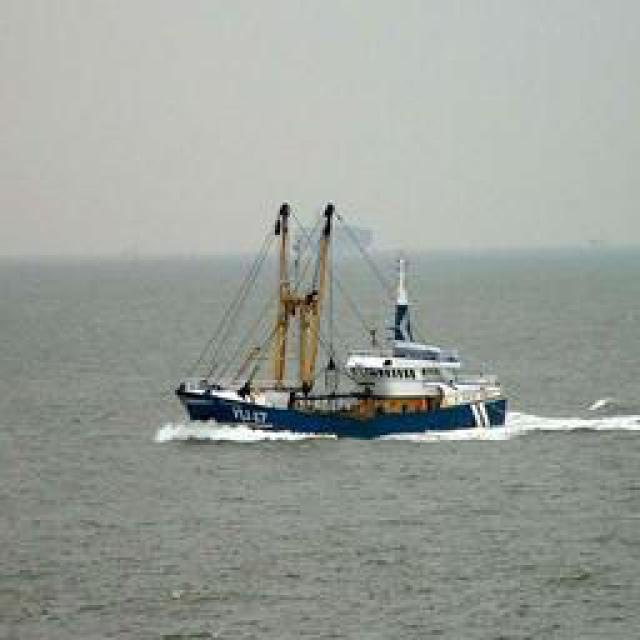Ship: (171, 196, 514, 444)
